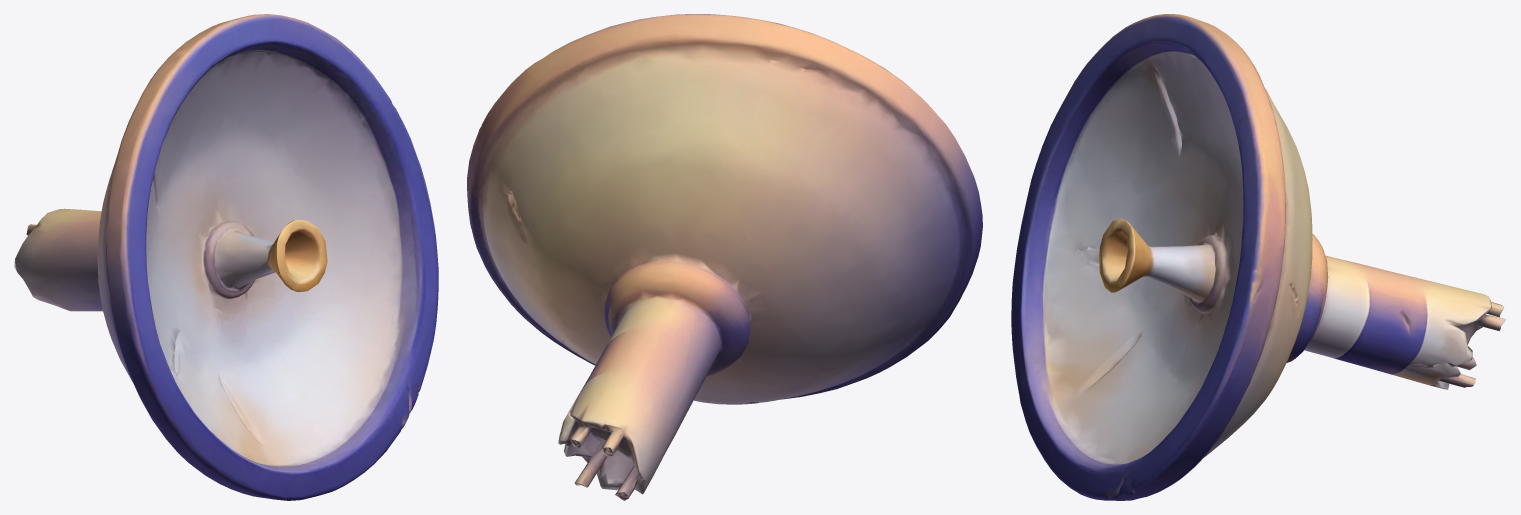
The model's file is antenna.glb.
3 views of the same model, side by side, from view 1: azimuth 30°, elevation 25°; view 2: azimuth 150°, elevation 25°; view 3: azimuth 270°, elevation 25° (orthographic). The views are drawn at different scales.
Visible parts, largest first — view 1: tripo_node_a909c430-be1f-4fe2-8086-97b4636bea10; view 2: tripo_node_a909c430-be1f-4fe2-8086-97b4636bea10; view 3: tripo_node_a909c430-be1f-4fe2-8086-97b4636bea10.
Boxes of the visible parts, <box> form: tripo_node_a909c430-be1f-4fe2-8086-97b4636bea10: <box>14,14,438,500</box>; tripo_node_a909c430-be1f-4fe2-8086-97b4636bea10: <box>467,14,982,500</box>; tripo_node_a909c430-be1f-4fe2-8086-97b4636bea10: <box>1011,14,1506,500</box>.
Bounding box in the file's own units: 0.9312 × 0.9486 × 1.
1 material, 1 textured.
